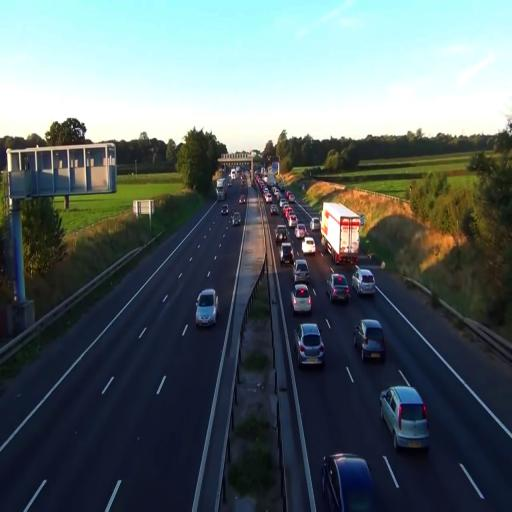vehicle: (379, 384, 430, 452), (320, 452, 375, 512), (320, 202, 362, 267), (354, 319, 387, 363), (296, 322, 326, 367), (195, 288, 218, 328), (326, 271, 350, 305), (353, 267, 376, 298), (292, 282, 312, 316), (293, 258, 310, 284), (280, 243, 296, 267), (302, 236, 316, 255), (231, 211, 240, 226)
